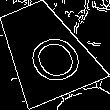O_NW: (10, 19, 81, 83)
